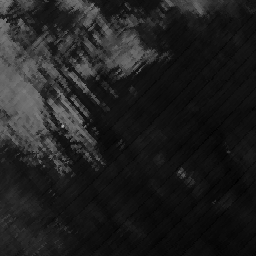Target: (60, 123, 66, 129)
